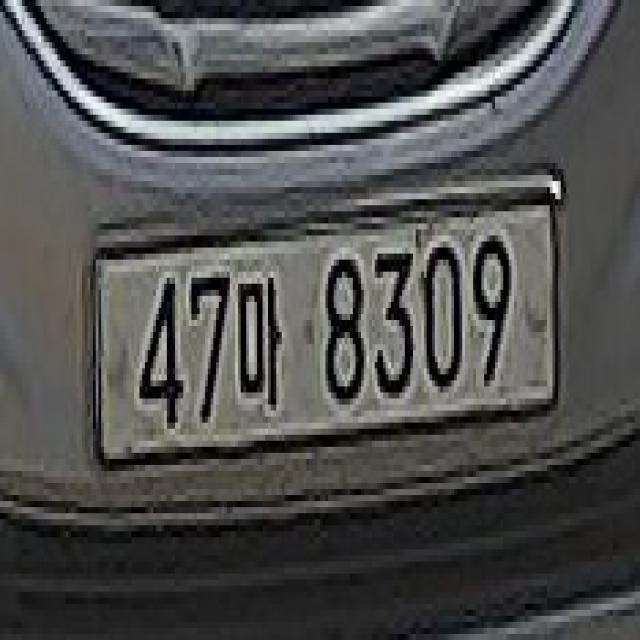0: (420, 230, 470, 402)
3: (372, 245, 418, 408)
4: (130, 270, 184, 448)
7: (188, 262, 230, 446)
8: (318, 249, 370, 428)
9: (473, 227, 516, 402)
license_plate: (83, 156, 570, 499)
ma: (233, 262, 288, 424)
